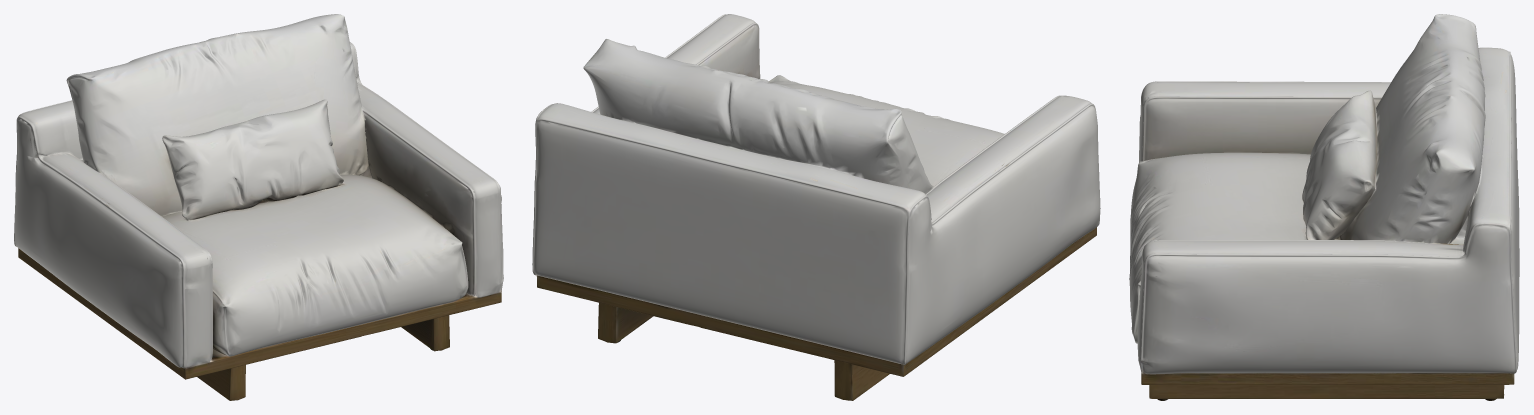
Rendered from armchair-real-castlery-mori-performance-fabric-armchair-walnut-wood.glb.
The picture shows the model from 3 angles, left to right: view 1: azimuth 30°, elevation 25°; view 2: azimuth 150°, elevation 25°; view 3: azimuth 270°, elevation 25°; orthographic projection. The views are drawn at different scales.
Visible parts, largest first — view 1: node_0; view 2: node_0; view 3: node_0.
Part boxes in pixels (left/top/right/bottom): node_0: left=14, top=14, right=503, bottom=400; node_0: left=532, top=14, right=1100, bottom=400; node_0: left=1129, top=14, right=1519, bottom=400.
Bounding box in the file's own units: 0.9 × 0.5955 × 0.7934.
Materials: 1 (1 with a texture image).
